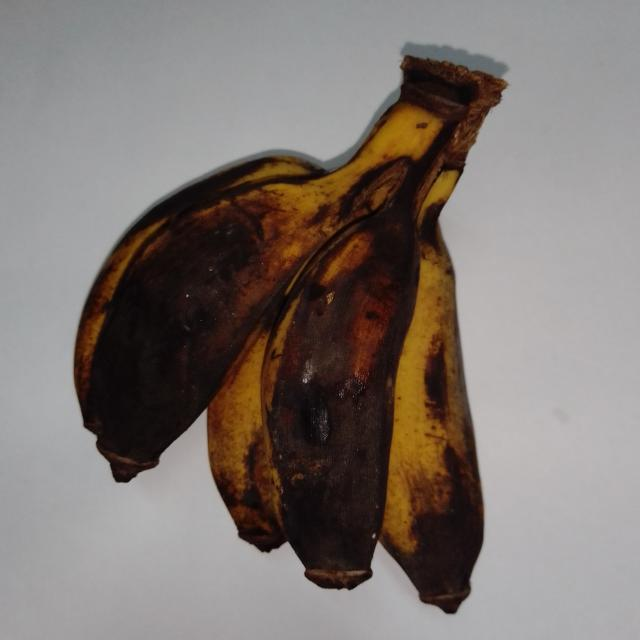banana: (75, 57, 505, 612), (76, 101, 450, 481), (381, 65, 505, 613), (263, 192, 418, 588), (381, 171, 483, 612), (208, 323, 285, 551), (208, 331, 284, 550)
